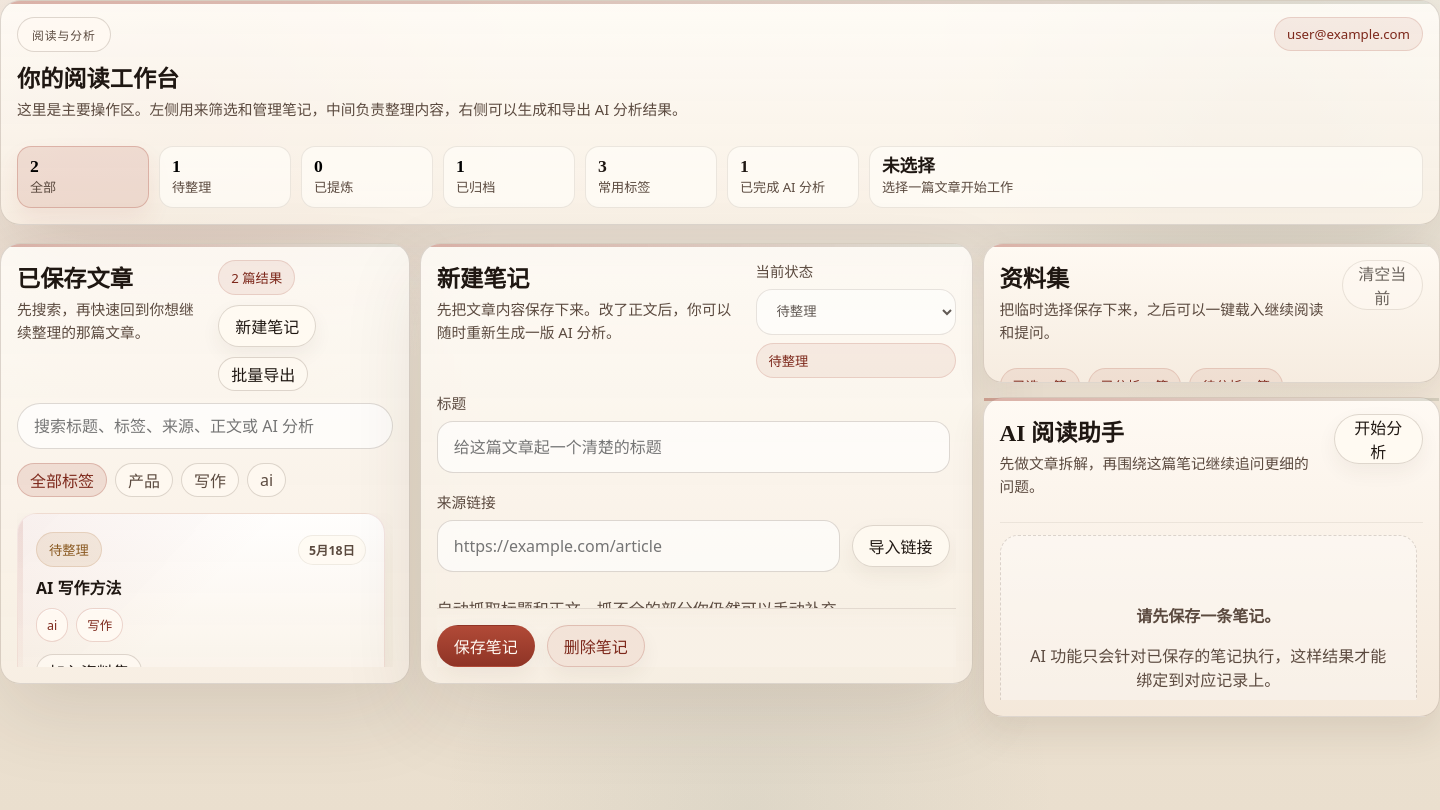
Test case: NotesWorkspace › filters notes by lifecycle view
This screenshot has width=1440, height=810.
Click the button "1 已归档". click: [509, 177]
box: [443,146,575,208]
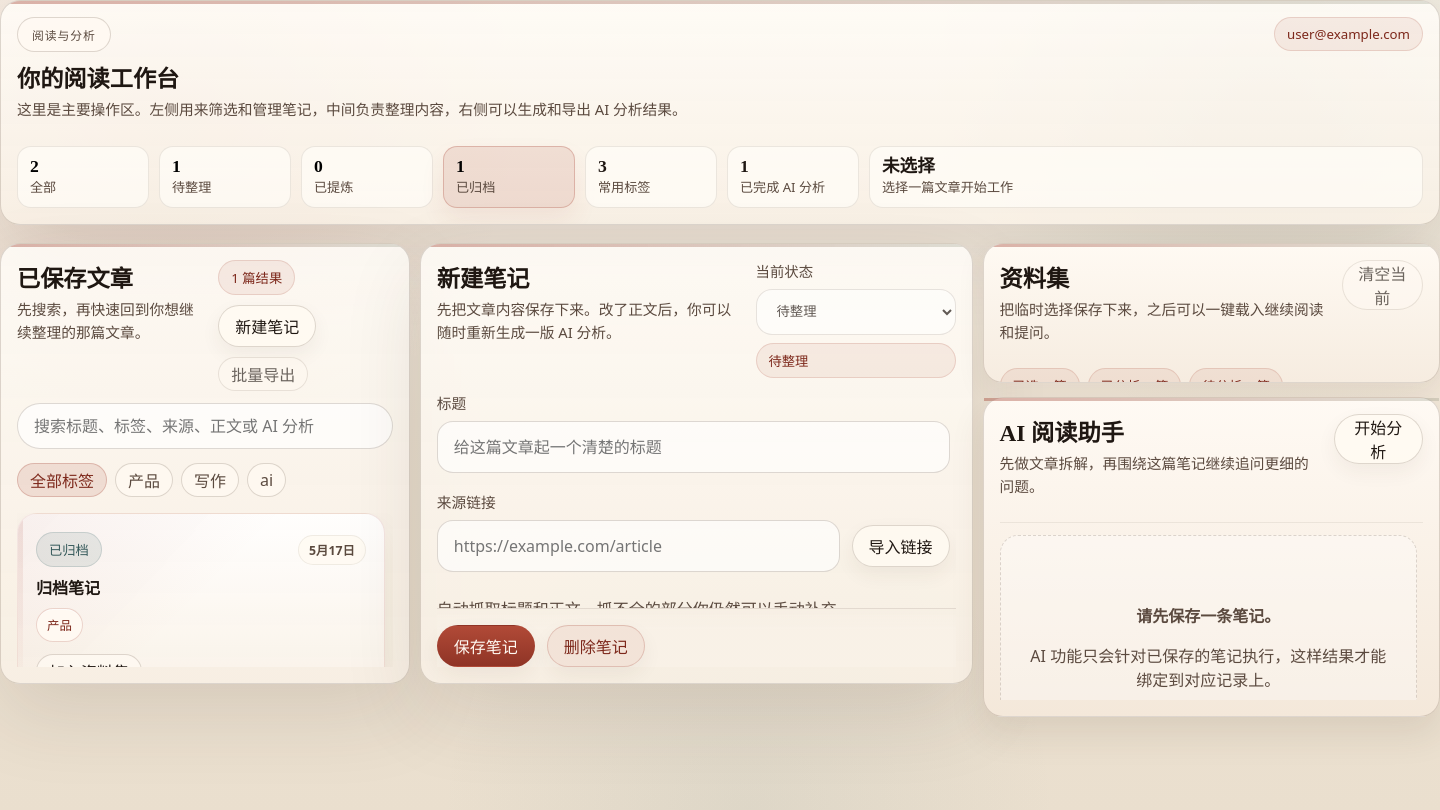
Expected: the text "1 篇结果" is shown, [218,260,295,295]
